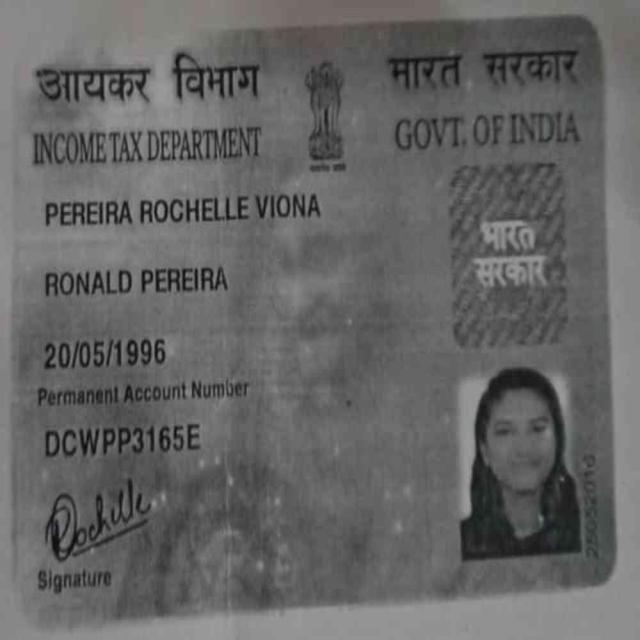pan_card: (23, 22, 614, 615)
